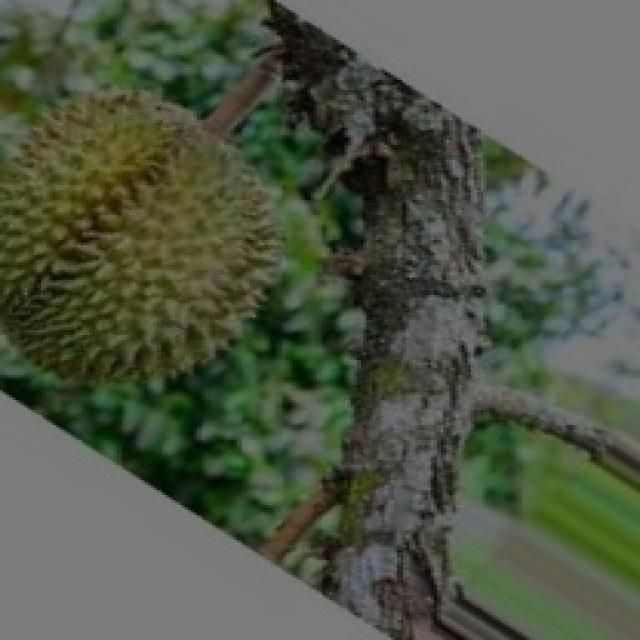fruit: (0, 60, 332, 460)
